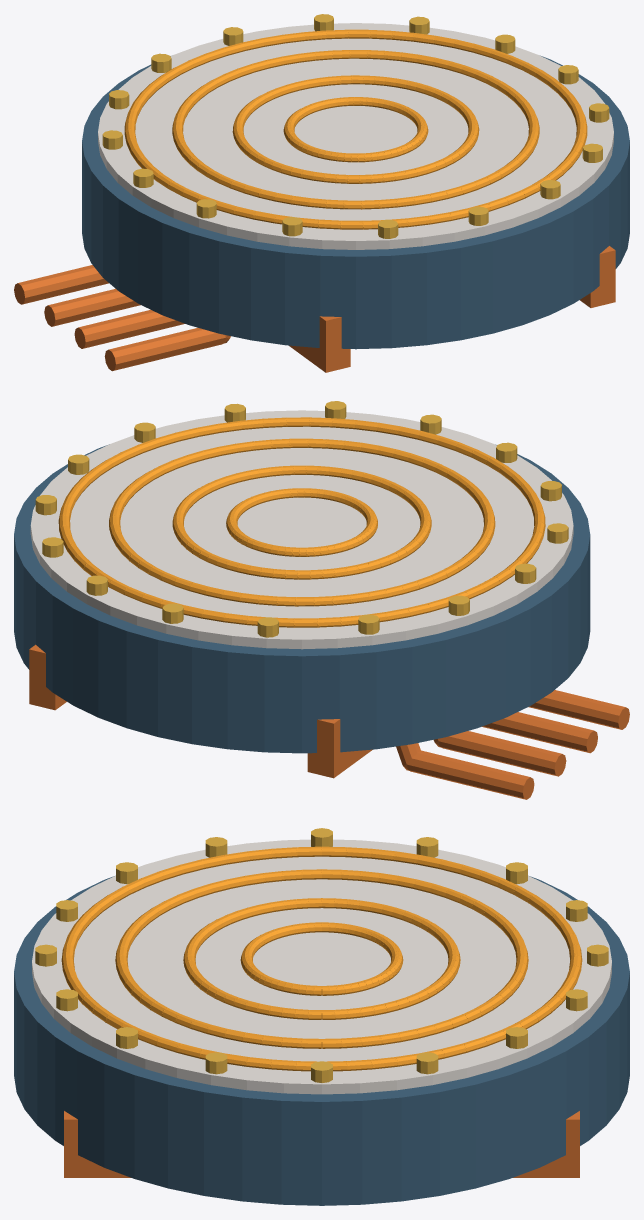
File: 04_L72_MultiZoneHeatedWaferChuck.fbx
3 views of the same model, one above another, from view 1: azimuth 30°, elevation 25°; view 2: azimuth 150°, elevation 25°; view 3: azimuth 270°, elevation 25° (orthographic). The views are drawn at different scales.
Parts seen in each view (by area): view 1: MultiZoneHeatedWaferChuck; view 2: MultiZoneHeatedWaferChuck; view 3: MultiZoneHeatedWaferChuck.
Boxes of the visible parts, x1,y1,x2,y2 form: MultiZoneHeatedWaferChuck: (14, 14, 629, 372); MultiZoneHeatedWaferChuck: (14, 401, 629, 799); MultiZoneHeatedWaferChuck: (14, 828, 629, 1205).
Size of the model in its own units: 186 by 55.4 by 172.
